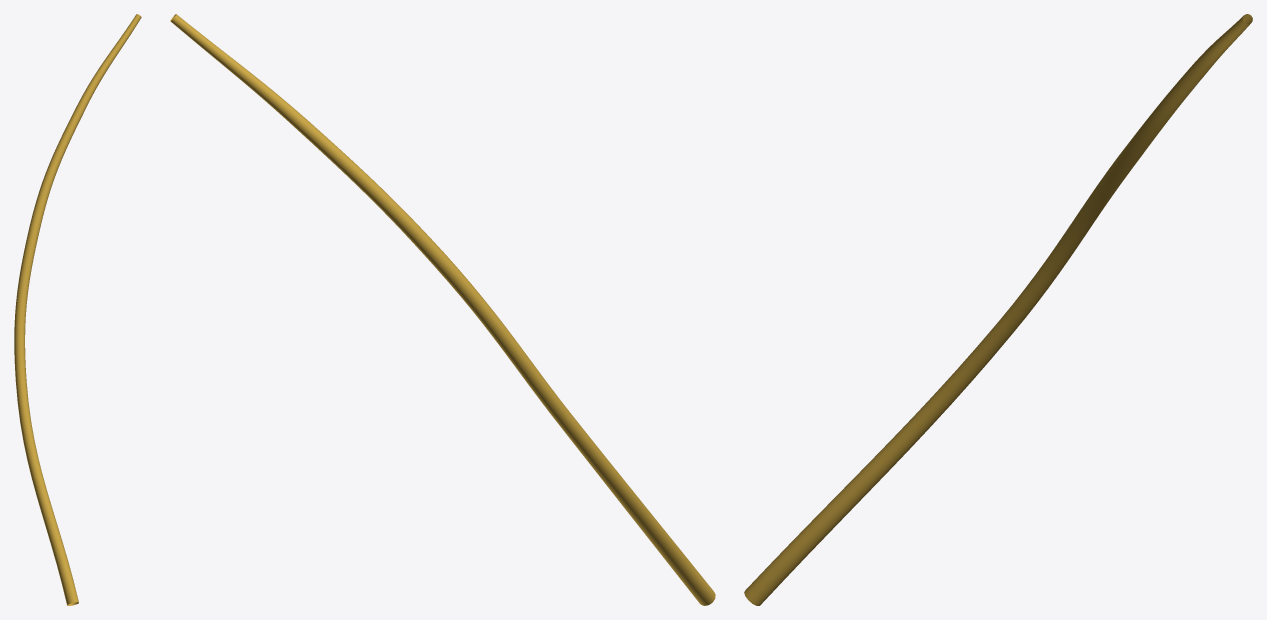
3 views of the same model, side by side, from view 1: azimuth 30°, elevation 25°; view 2: azimuth 150°, elevation 25°; view 3: azimuth 270°, elevation 25° (orthographic). The views are drawn at different scales.
Parts seen in each view (by area): view 1: 右侧肩胛下神经上支; view 2: 右侧肩胛下神经上支; view 3: 右侧肩胛下神经上支.
Part boxes in pixels (bbox=[...]): 右侧肩胛下神经上支: bbox=[14, 14, 141, 605]; 右侧肩胛下神经上支: bbox=[170, 14, 715, 605]; 右侧肩胛下神经上支: bbox=[744, 14, 1252, 605].
Bounding box in the file's own units: 0.0474 × 0.0925 × 0.0557.
